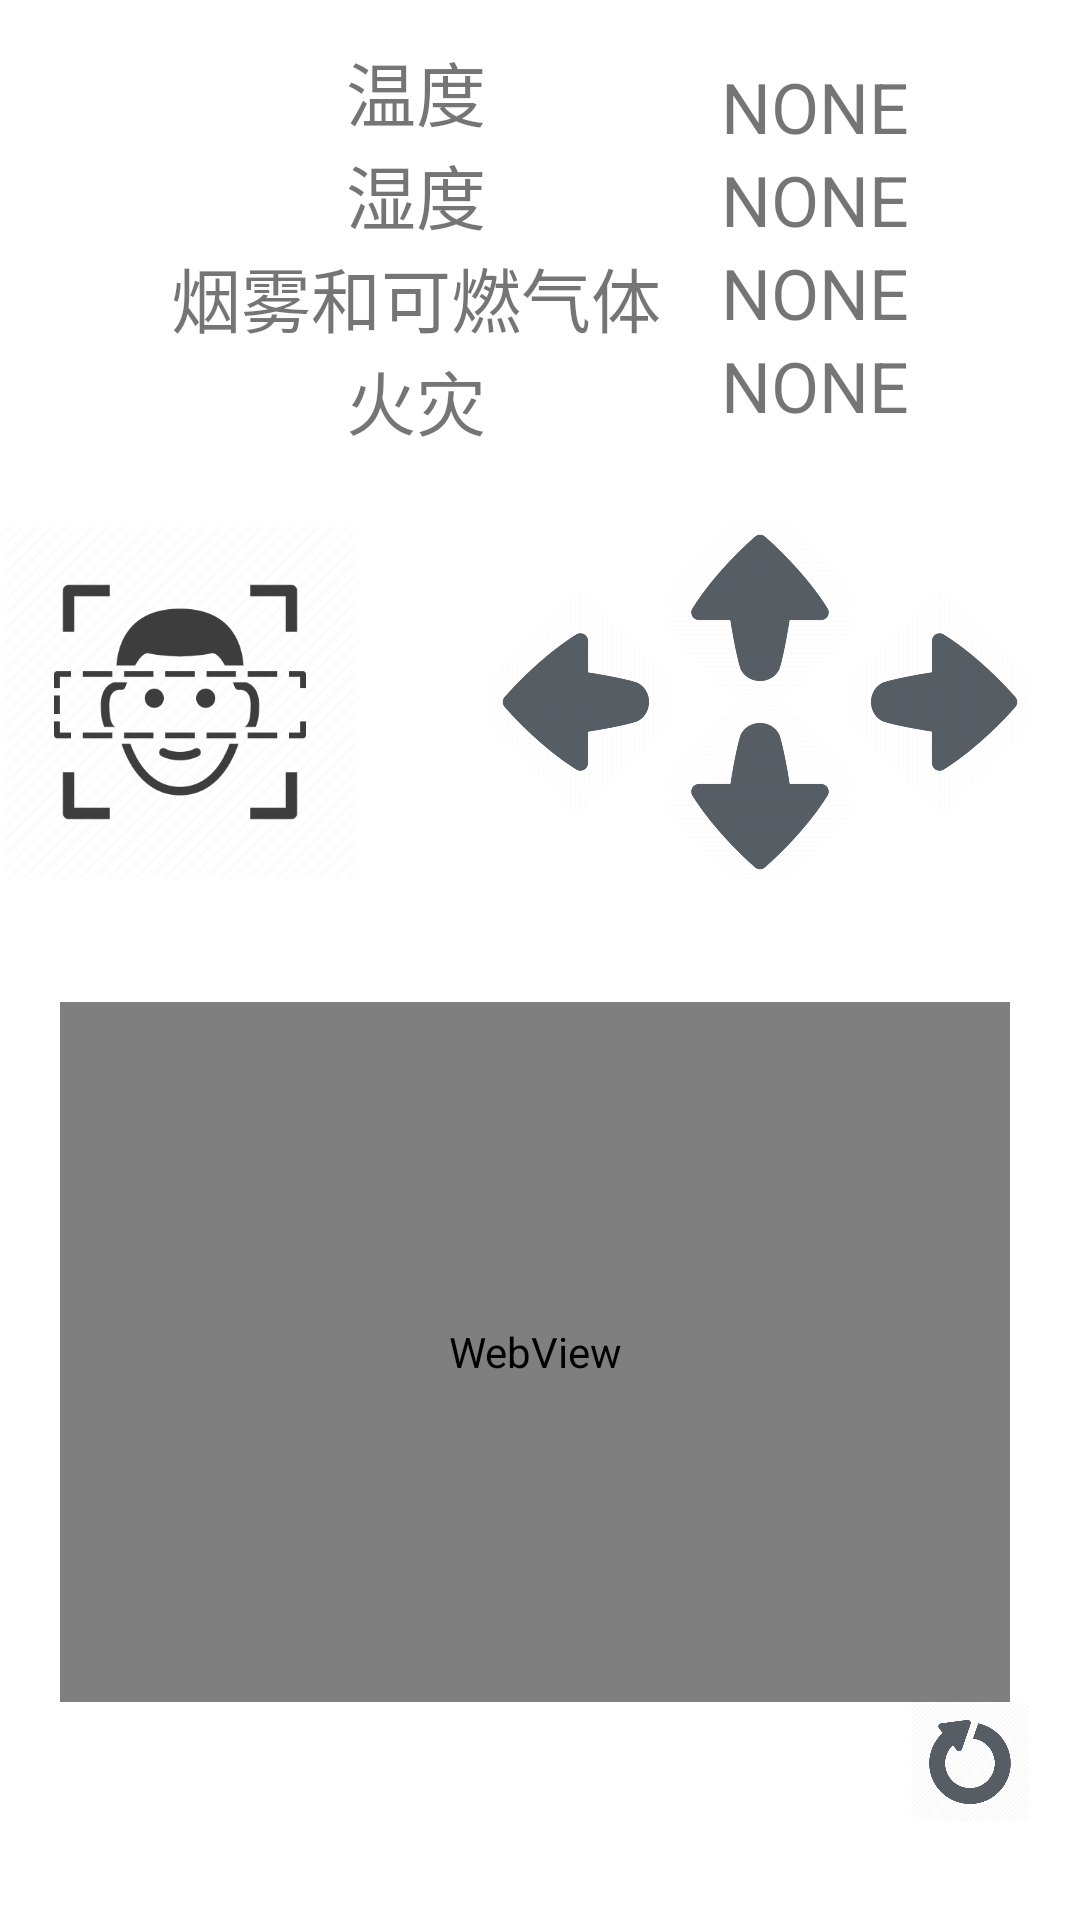

Locate icon controls on the screen. Image size 1080 x 1920, boxes as bbox=[x1, y1, x2, y2].
downarrow: bbox=[691, 723, 829, 870]
facedetection: bbox=[54, 584, 306, 820]
leftarrow: bbox=[502, 633, 649, 771]
reloadimage: bbox=[929, 1720, 1011, 1804]
rightarrow: bbox=[871, 633, 1018, 771]
toparrow: bbox=[691, 534, 829, 681]
